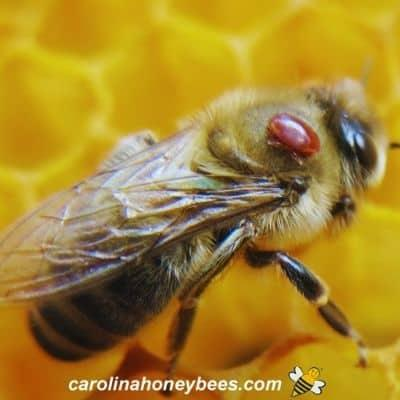worker-bee: (0, 77, 399, 382)
